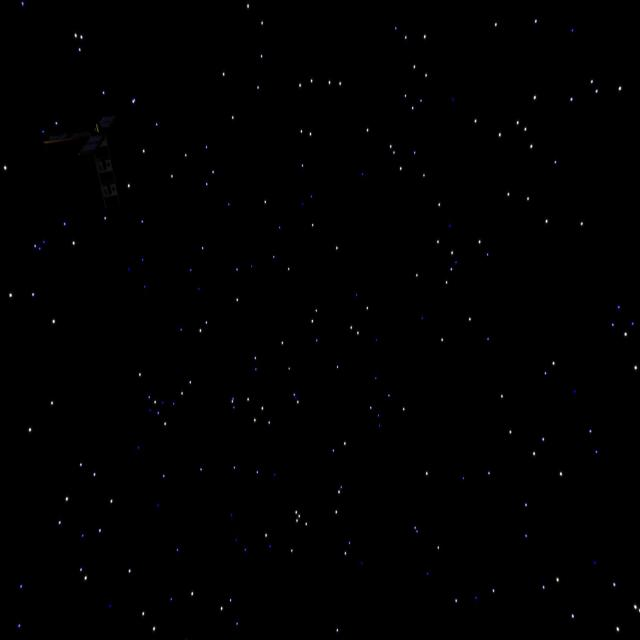medium_debris: (25, 110, 151, 210)
